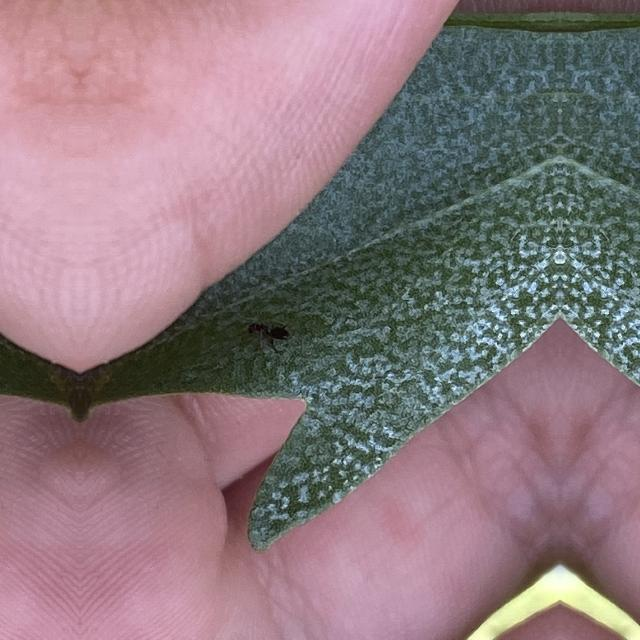Tapinoma: (242, 314, 294, 352)
